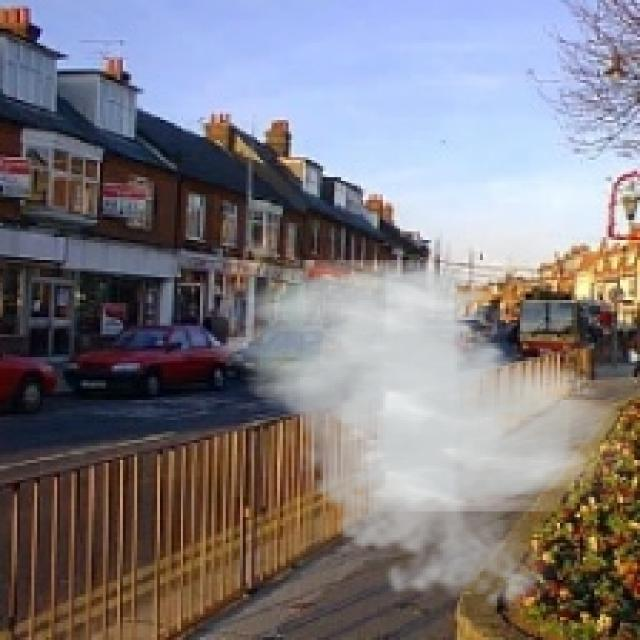smoke: (212, 260, 628, 617)
